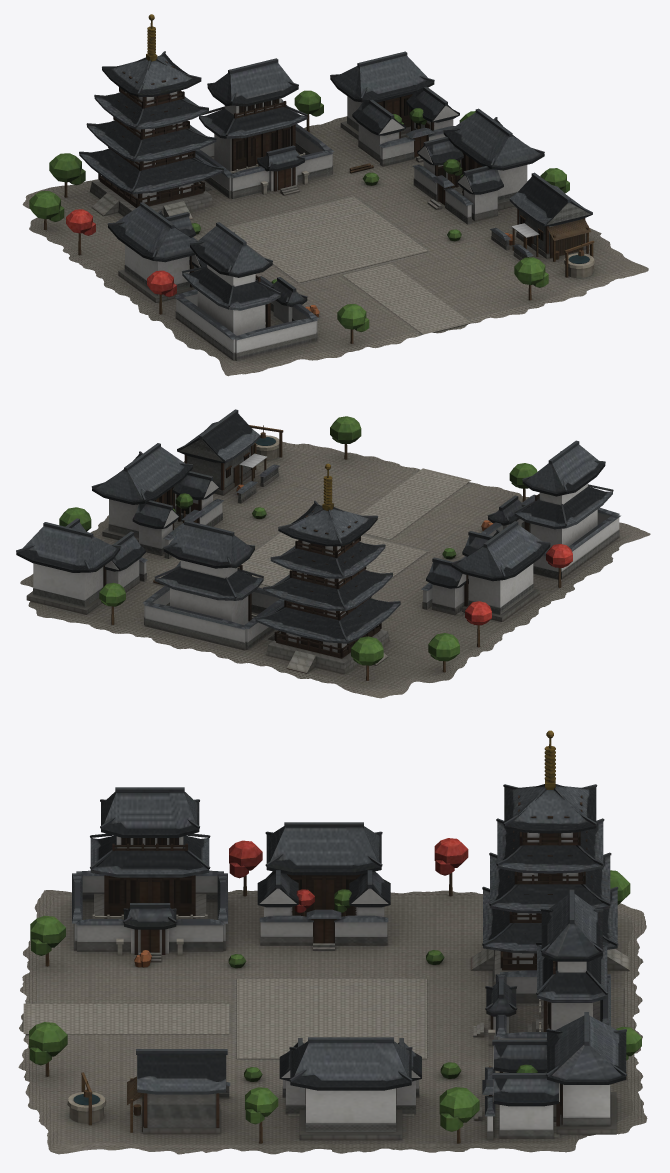
File: kingdoms-town-small-a-japan.glb
3 views of the same model, one above another, from view 1: azimuth 30°, elevation 25°; view 2: azimuth 150°, elevation 25°; view 3: azimuth 270°, elevation 25° (orthographic). The views are drawn at different scales.
Visible parts, largest first — view 1: LOD0; view 2: LOD0; view 3: LOD0.
Boxes of the visible parts, bbox=[...] form: LOD0: bbox=[22, 14, 648, 376]; LOD0: bbox=[16, 409, 650, 698]; LOD0: bbox=[18, 730, 647, 1154].
Size of what is drawn, in the model's own units: 4.02 by 1.66 by 4.06.
3 materials, 3 textured.
